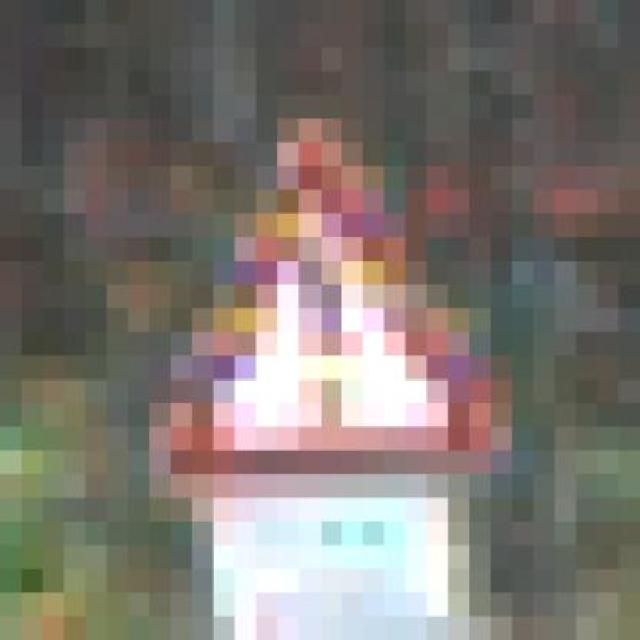Attention Please-: (112, 92, 539, 519)
